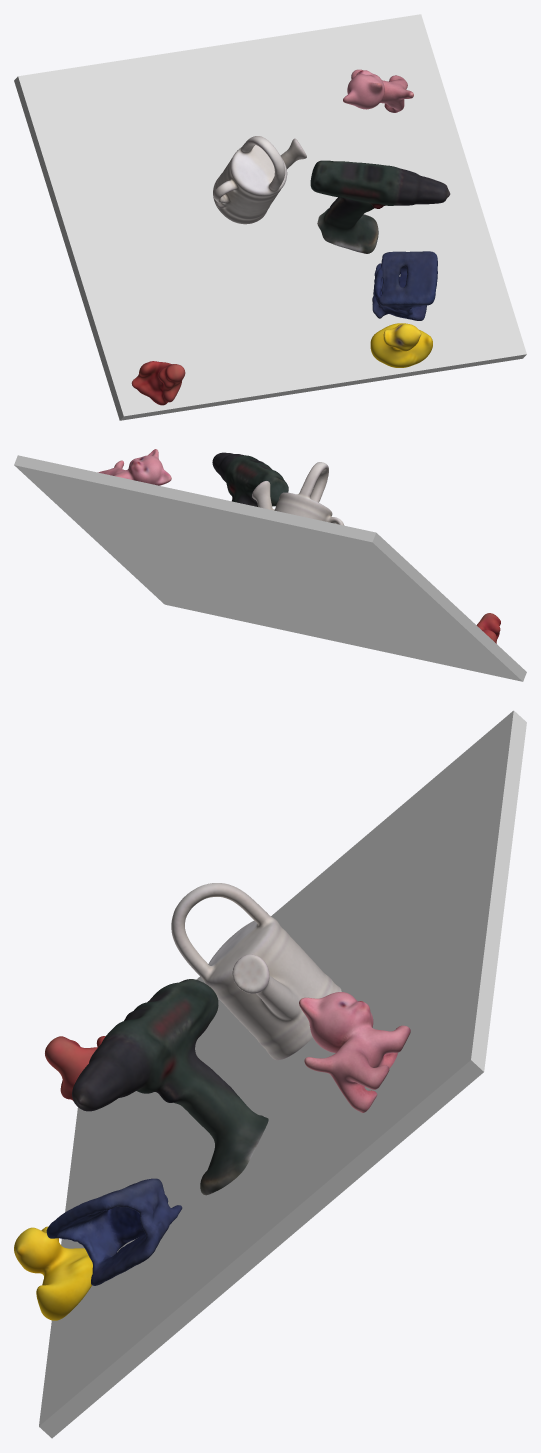
Rendered from sample1.glb.
3 renders of one model, top to bottom at view 1: azimuth 30°, elevation 25°; view 2: azimuth 150°, elevation 25°; view 3: azimuth 270°, elevation 25°, orthographic. The views are drawn at different scales.
Parts seen in each view (by area): view 1: Plane.001, obj_000008.001, obj_000005.001, obj_000012.004, obj_000009.001, obj_000006.001, obj_000001.004; view 2: Plane.001, obj_000008.001, obj_000005.001, obj_000006.001, obj_000001.004; view 3: Plane.001, obj_000008.001, obj_000005.001, obj_000012.004, obj_000006.001, obj_000009.001, obj_000001.004.
Boxes of the visible parts, bbox=[...] form: Plane.001: bbox=[14, 14, 526, 420]; obj_000008.001: bbox=[310, 160, 450, 253]; obj_000005.001: bbox=[213, 136, 306, 224]; obj_000012.004: bbox=[372, 251, 437, 320]; obj_000009.001: bbox=[370, 323, 432, 367]; obj_000006.001: bbox=[343, 69, 413, 112]; obj_000001.004: bbox=[131, 361, 185, 405]; Plane.001: bbox=[14, 455, 526, 681]; obj_000008.001: bbox=[212, 452, 288, 506]; obj_000005.001: bbox=[252, 462, 344, 525]; obj_000006.001: bbox=[98, 449, 171, 485]; obj_000001.004: bbox=[476, 613, 500, 643]; Plane.001: bbox=[39, 710, 526, 1438]; obj_000008.001: bbox=[72, 979, 268, 1195]; obj_000005.001: bbox=[171, 883, 341, 1060]; obj_000012.004: bbox=[46, 1178, 182, 1285]; obj_000006.001: bbox=[299, 992, 410, 1112]; obj_000009.001: bbox=[14, 1226, 92, 1320]; obj_000001.004: bbox=[45, 1036, 105, 1100].
Bounding box in the file's own units: 810 × 498 × 529.
